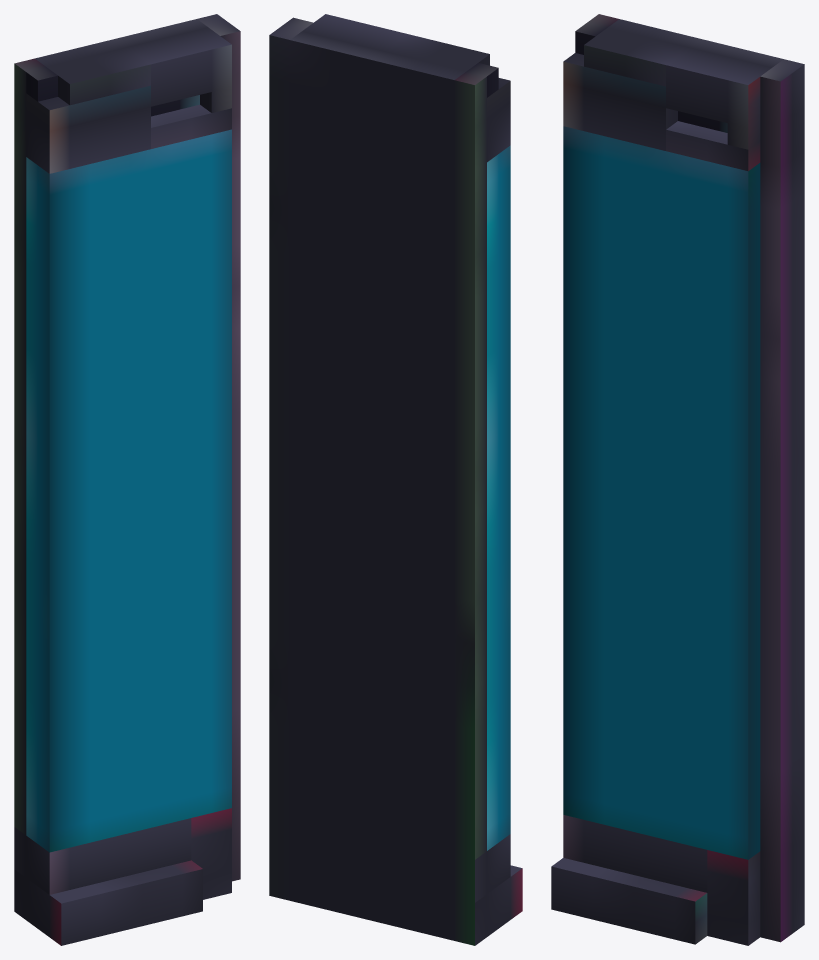
Rendered from Billboard_Sachio_B_00.fbx.
The picture shows the model from 3 angles, left to right: view 1: azimuth 30°, elevation 25°; view 2: azimuth 150°, elevation 25°; view 3: azimuth 330°, elevation 25°; orthographic projection.
Parts seen in each view (by area): view 1: Billboard_Sachio_B_00; view 2: Billboard_Sachio_B_00; view 3: Billboard_Sachio_B_00.
Part boxes in pixels (left/top/right/bottom): Billboard_Sachio_B_00: left=14, top=14, right=240, bottom=945; Billboard_Sachio_B_00: left=269, top=14, right=522, bottom=945; Billboard_Sachio_B_00: left=551, top=14, right=804, bottom=945.
Bounding box in the file's own units: 50 × 200 × 20.
